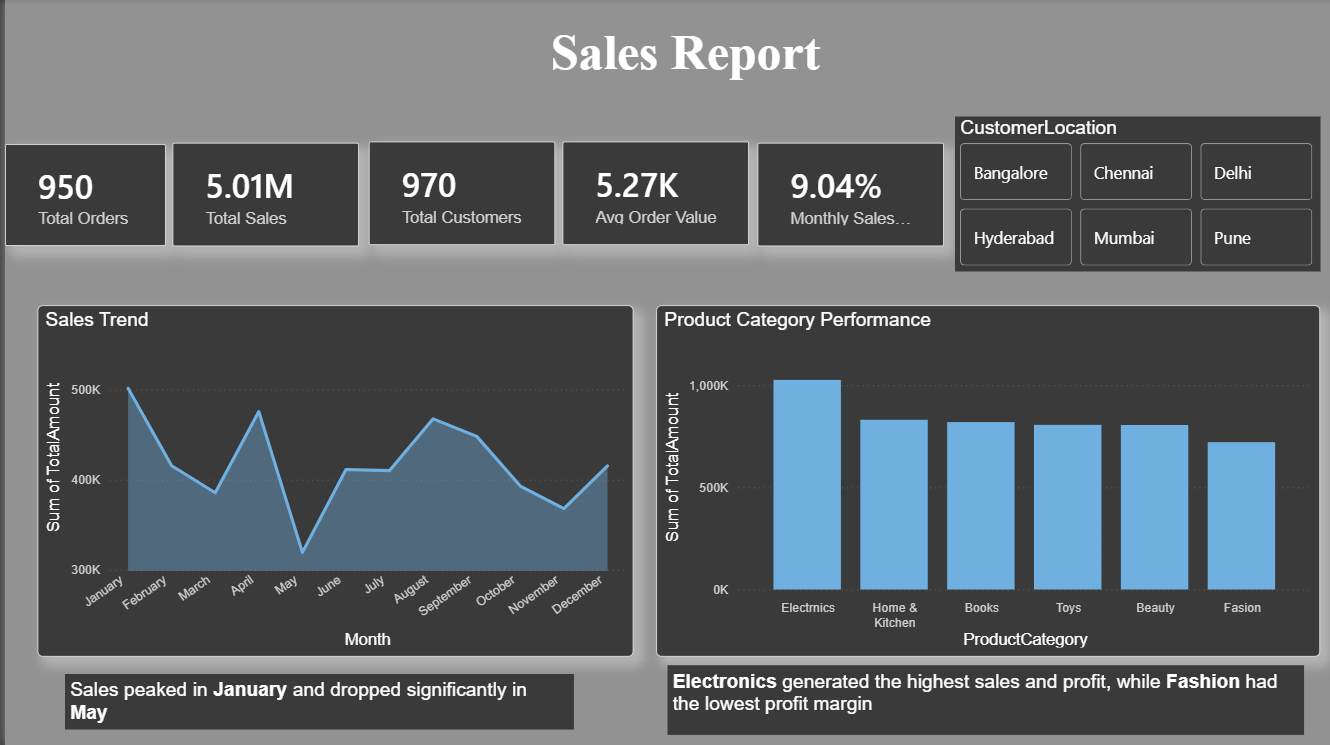

The page's visual inventory and layout, read from the dashboard file:
{"tool":"powerbi","page":{"name":"Sales Dashboard","canvas":[1280,720],"ordinal":1},"visuals":[{"type":"cardVisual","fields":{"Data":["Count(ecommerce_messy_data (1).OrderID)"]},"box":[0,140,155,98.8],"z":0},{"type":"cardVisual","fields":{"Data":["Sum(ecommerce_messy_data (1).TotalAmount)"]},"box":[161.9,138.6,179.8,100.2],"z":1000},{"type":"cardVisual","fields":{"Data":["CountNonNull(ecommerce_messy_data (1).CustomerID)"]},"box":[351.3,137.2,179.8,100.2],"z":2000},{"type":"lineChart","title":"Sales Trend","fields":{"Category":["ecommerce_messy_data (1).OrderDate.Variation.Date Hierarchy.Month"],"Y":["Sum(ecommerce_messy_data (1).TotalAmount)"]},"box":[31.6,295,575,338.9],"z":3000},{"type":"lineStackedColumnComboChart","title":"Product Category Performance","fields":{"Category":["ecommerce_messy_data (1).ProductCategory"],"Y":["Sum(ecommerce_messy_data (1).TotalAmount)"]},"box":[628.5,295,640.8,338.9],"z":4000},{"type":"cardVisual","fields":{"Data":["ecommerce_messy_data (1).Avg Order Value"]},"box":[537.9,137.2,179.8,100.2],"z":5000},{"type":"cardVisual","fields":{"Data":["ecommerce_messy_data (1).Monthly Sales %"]},"box":[725.9,138.6,179.8,100.2],"z":6000},{"type":"textbox","box":[57.6,651.8,491.3,53.5],"z":7000},{"type":"textbox","box":[639.5,643.6,614.8,67.2],"z":8000},{"type":"advancedSlicerVisual","fields":{"Values":["ecommerce_messy_data (1).CustomerLocation"]},"box":[916.6,113.9,352.7,149.6],"z":9000},{"type":"textbox","box":[474.8,19.2,374.6,75.5],"z":10000}]}

Visuals, with their boxes in screenshot pixels (x1, y1, x2, y2), scaled from the page's 1280x720 canvas onto the 1330x745 screenshot:
cardVisual - Count(ecommerce_messy_data (1).OrderID): x1=0 y1=145 x2=161 y2=247
cardVisual - Sum(ecommerce_messy_data (1).TotalAmount): x1=168 y1=143 x2=355 y2=247
cardVisual - CountNonNull(ecommerce_messy_data (1).CustomerID): x1=365 y1=142 x2=552 y2=246
"Sales Trend" lineChart: x1=33 y1=305 x2=630 y2=656
"Product Category Performance" lineStackedColumnComboChart: x1=653 y1=305 x2=1319 y2=656
cardVisual - ecommerce_messy_data (1).Avg Order Value: x1=559 y1=142 x2=746 y2=246
cardVisual - ecommerce_messy_data (1).Monthly Sales %: x1=754 y1=143 x2=941 y2=247
textbox: x1=60 y1=674 x2=570 y2=730
textbox: x1=664 y1=666 x2=1303 y2=735
advancedSlicerVisual - ecommerce_messy_data (1).CustomerLocation: x1=952 y1=118 x2=1319 y2=273
textbox: x1=493 y1=20 x2=883 y2=98
